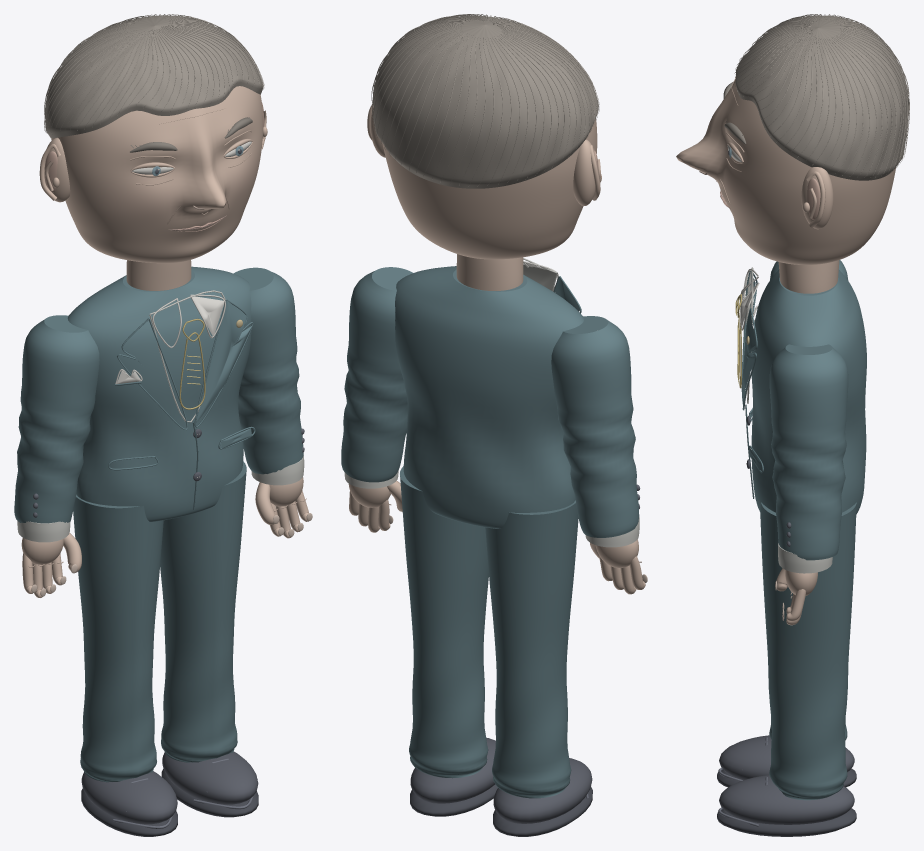
Rendered from paddy_ashdown_1990_v2.glb.
3 renders of one model, left to right at view 1: azimuth 30°, elevation 25°; view 2: azimuth 150°, elevation 25°; view 3: azimuth 270°, elevation 25°, orthographic. The views are drawn at different scales.
Parts seen in each view (by area): view 1: Paddy Ashdown; view 2: Paddy Ashdown; view 3: Paddy Ashdown.
Part boxes in pixels (box(x1,y1,x2,y2)): Paddy Ashdown: box(14, 14, 312, 836); Paddy Ashdown: box(341, 14, 647, 836); Paddy Ashdown: box(676, 14, 909, 836).
Bounding box in the file's own units: 1.8 × 4.67 × 1.27.
